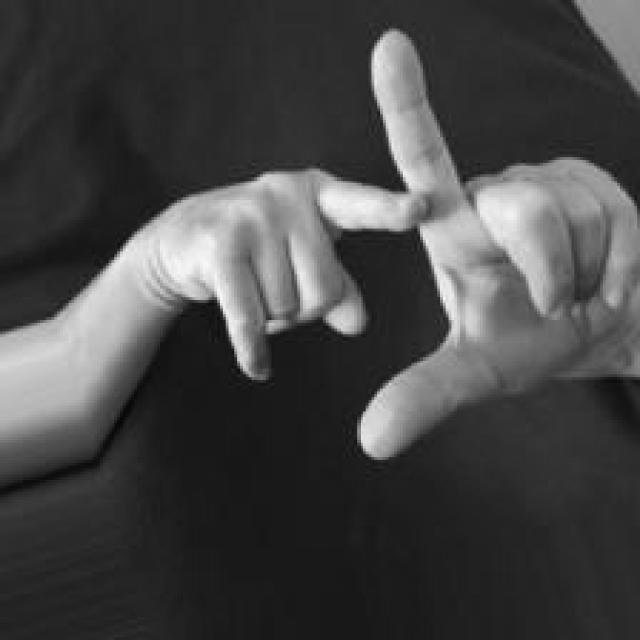J: (143, 25, 640, 462)
